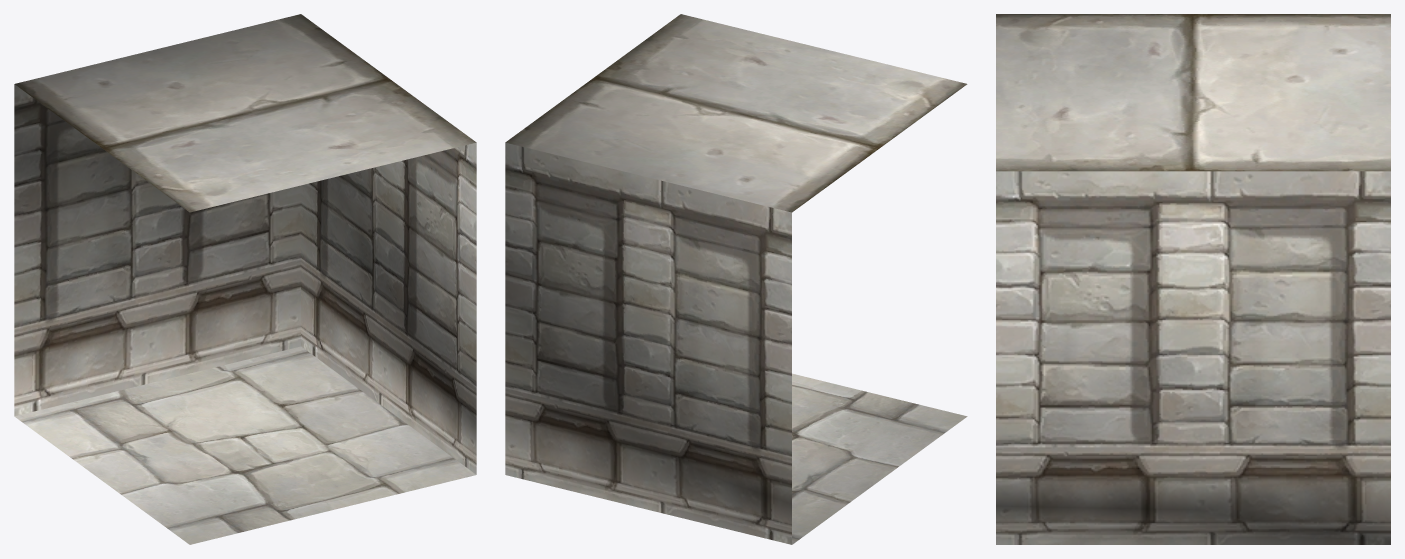
Rendered from stormwind_203.fbx.
The picture shows the model from 3 angles, left to right: view 1: azimuth 30°, elevation 25°; view 2: azimuth 150°, elevation 25°; view 3: azimuth 270°, elevation 25°; orthographic projection. The views are drawn at different scales.
Visible parts, largest first — view 1: stormwind_203_60, stormwind_203_40, stormwind_203_52; view 2: stormwind_203_60, stormwind_203_40, stormwind_203_52; view 3: stormwind_203_60, stormwind_203_40.
Boxes of the visible parts, x1,y1,x2,y2 form: stormwind_203_60: (14, 84, 476, 474); stormwind_203_40: (14, 14, 476, 212); stormwind_203_52: (14, 346, 476, 544); stormwind_203_60: (505, 142, 791, 544); stormwind_203_40: (505, 14, 967, 212); stormwind_203_52: (792, 373, 967, 544); stormwind_203_60: (996, 171, 1390, 544); stormwind_203_40: (996, 14, 1390, 171).
Bounding box in the file's own units: 7.52 × 8.33 × 7.98.
